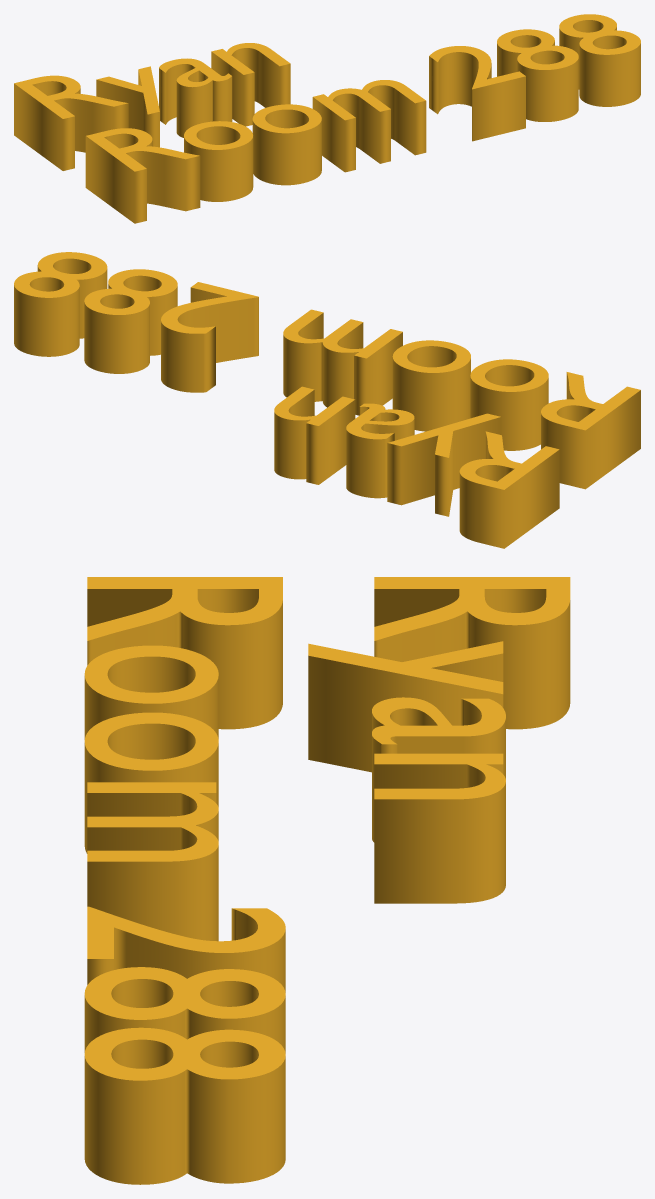
Rendered from ryan-288.gltf.
3 renders of one model, top to bottom at view 1: azimuth 30°, elevation 25°; view 2: azimuth 150°, elevation 25°; view 3: azimuth 270°, elevation 25°, orthographic. The views are drawn at different scales.
Visible parts, largest first — view 1: Text; view 2: Text; view 3: Text.
Boxes of the visible parts, x1,y1,x2,y2 form: Text: (14,14,640,223); Text: (14,252,640,548); Text: (84,577,570,1184).
Size of the model in its own units: 4.15 by 0.4 by 1.69.
